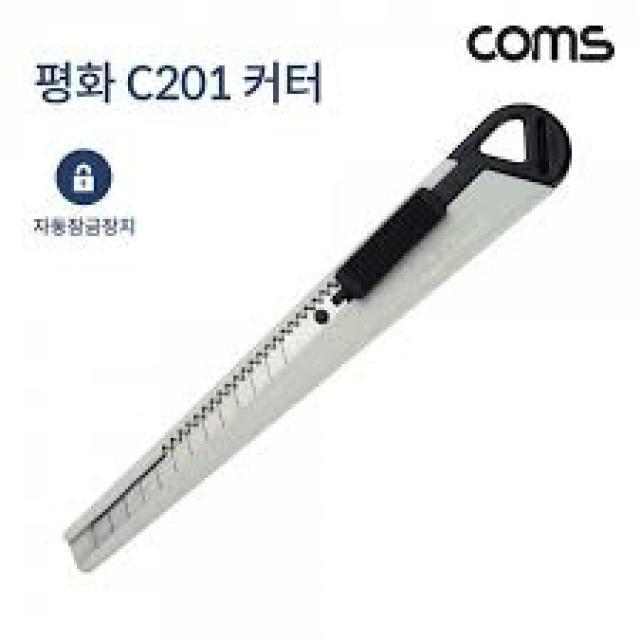cutter: (59, 93, 578, 582)
